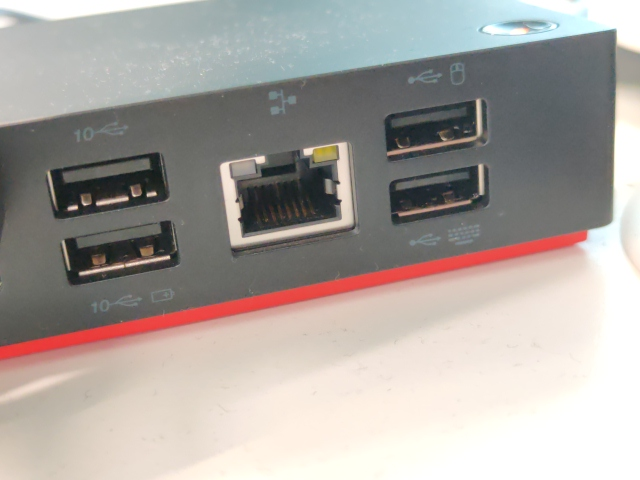Ethernet: (228, 146, 352, 253)
USB: (45, 152, 171, 221), (59, 220, 182, 286), (383, 99, 487, 164), (389, 164, 488, 226)
